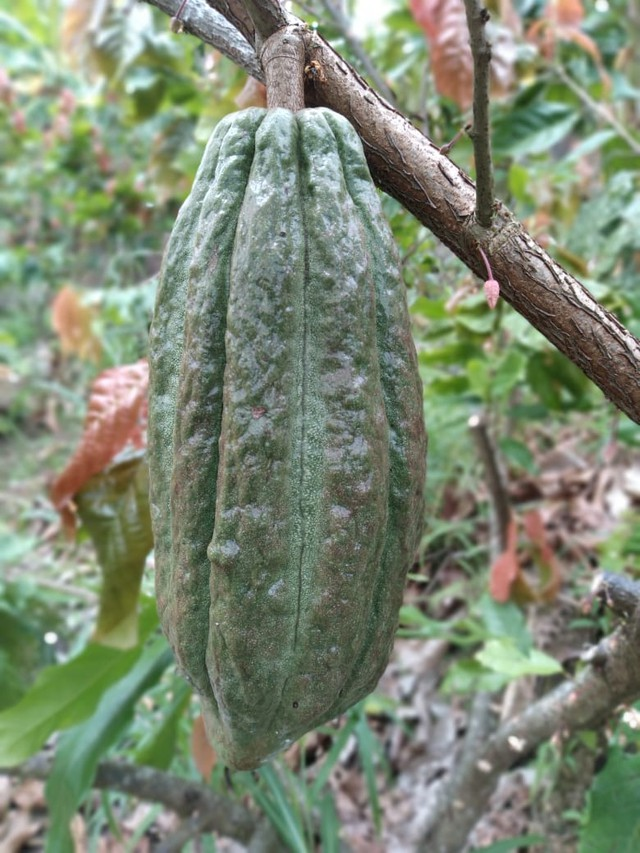Health: (129, 68, 447, 785)
